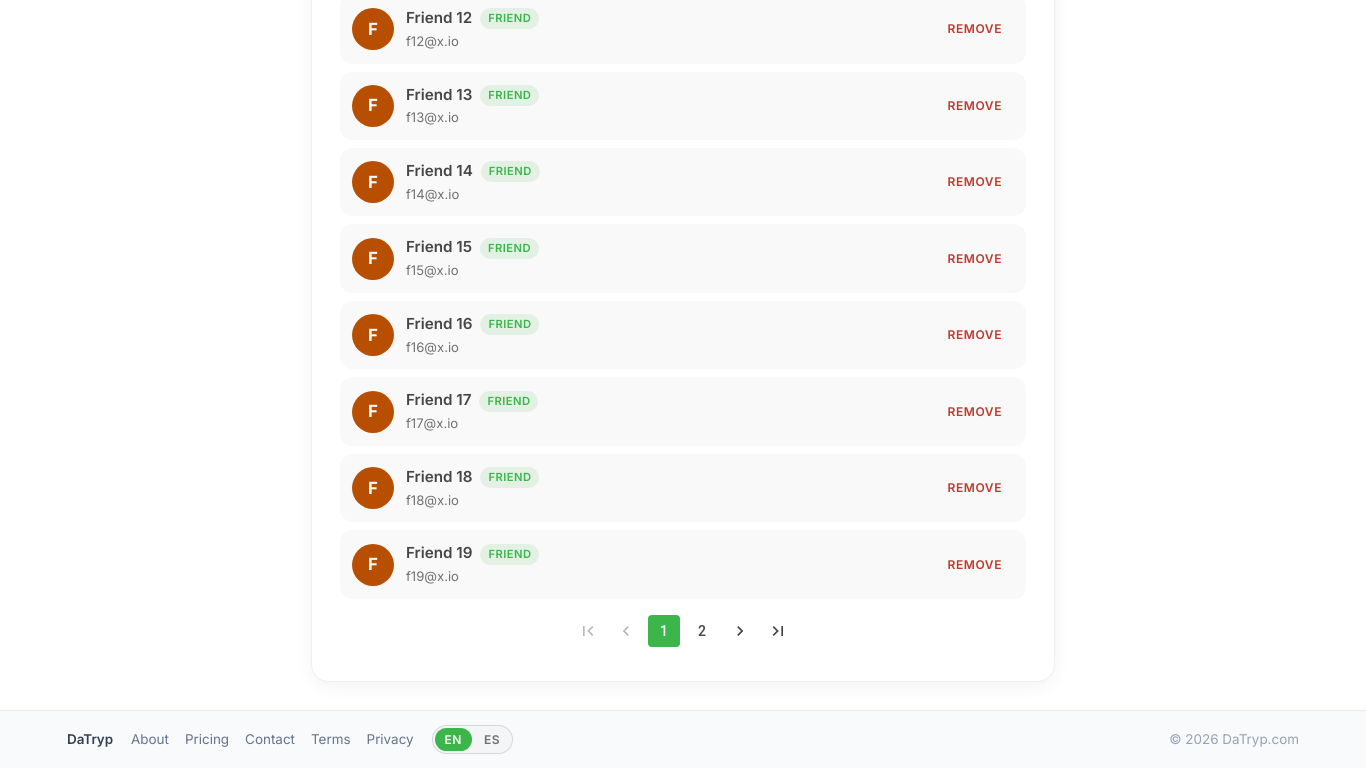
Test: Friends › paginates the friends list and turns the page
(page scrolled)
Expected: the navigation bar named "friends pagination" is shown, [572, 615, 794, 647]
Expected: the text "Friend 20" is not shown
Click the button named "go to page 2": (702, 631) [686, 615, 718, 647]
(page scrolled)
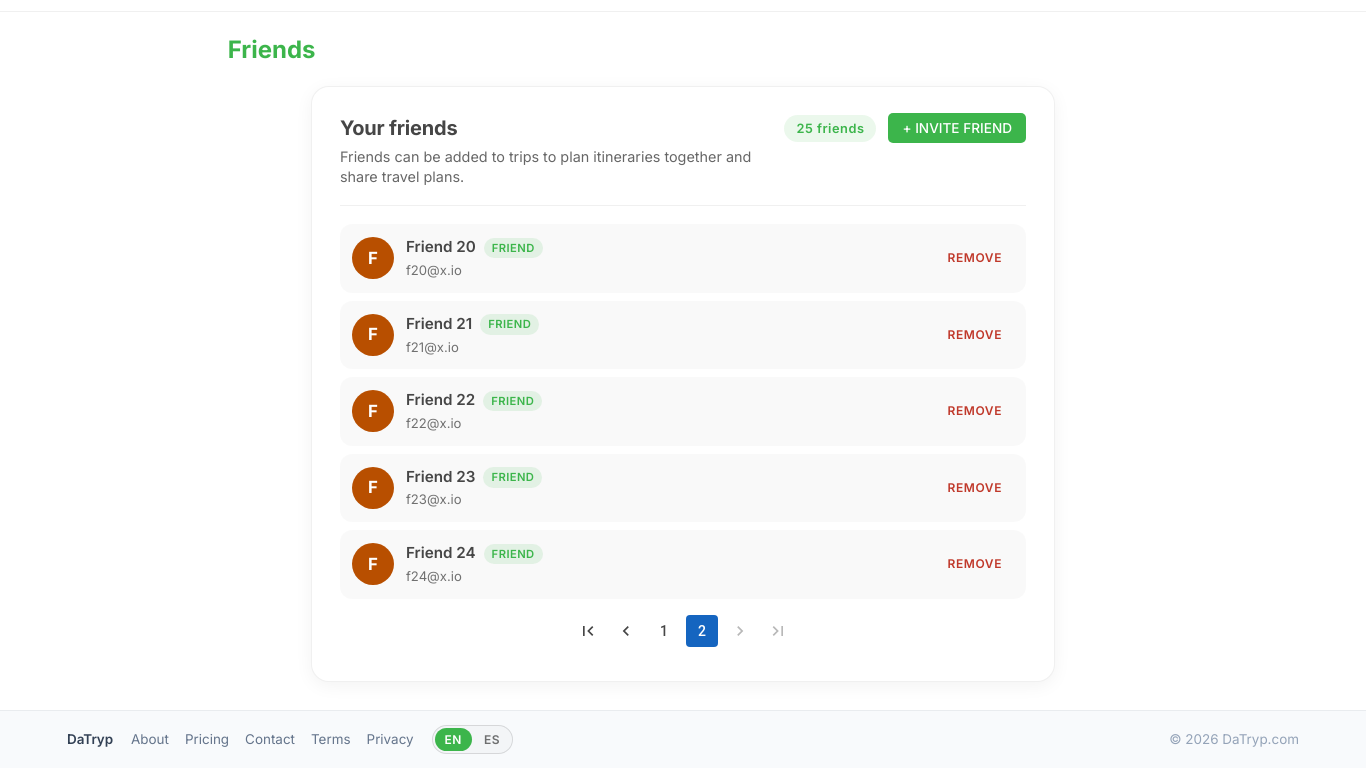
Result: the text "Friend 20" is shown at [406, 237, 476, 256]
